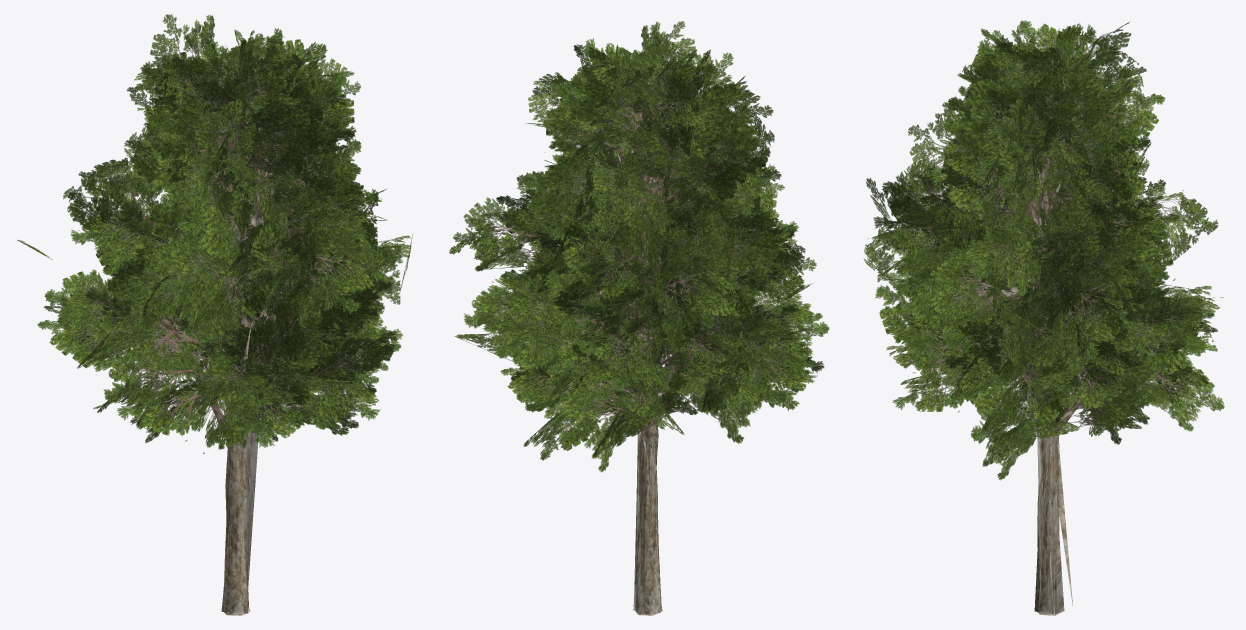
The model's file is street-tree-v1.glb.
3 renders of one model, left to right at view 1: azimuth 30°, elevation 25°; view 2: azimuth 150°, elevation 25°; view 3: azimuth 270°, elevation 25°, orthographic. The views are drawn at different scales.
Parts seen in each view (by area): view 1: Tree_1, Tree_0, Tree_1_distant, Tree_0_distant; view 2: Tree_0, Tree_1, Tree_1_distant, Tree_0_distant; view 3: Tree_0, Tree_1, Tree_1_distant, Tree_0_distant.
Part boxes in pixels (x1=…): Tree_1: x1=17, y1=30, x2=411, y2=615; Tree_0: x1=37, y1=14, x2=400, y2=604; Tree_1_distant: x1=18, y1=28, x2=412, y2=613; Tree_0_distant: x1=37, y1=15, x2=400, y2=594; Tree_0: x1=449, y1=21, x2=829, y2=597; Tree_1: x1=465, y1=24, x2=822, y2=615; Tree_1_distant: x1=464, y1=21, x2=824, y2=614; Tree_0_distant: x1=450, y1=27, x2=828, y2=610; Tree_0: x1=866, y1=20, x2=1224, y2=613; Tree_1: x1=867, y1=26, x2=1213, y2=615; Tree_1_distant: x1=863, y1=23, x2=1218, y2=614; Tree_0_distant: x1=893, y1=21, x2=1223, y2=605.
Bounding box in the file's own units: 0.667 × 1.01 × 0.5799.
Materials: 1 (1 with a texture image).
